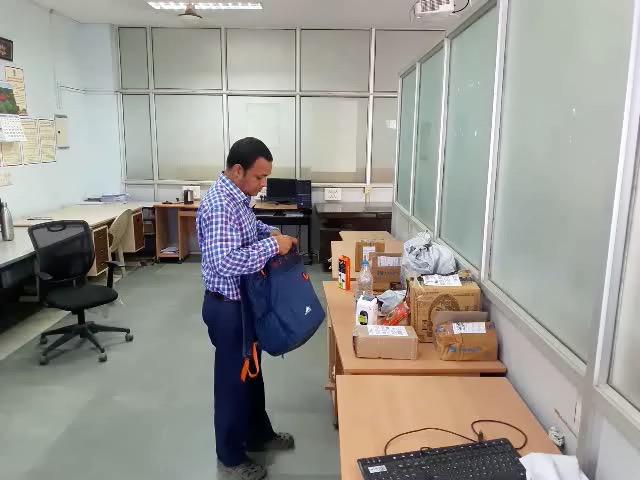shoplifting: (185, 227, 394, 323)
